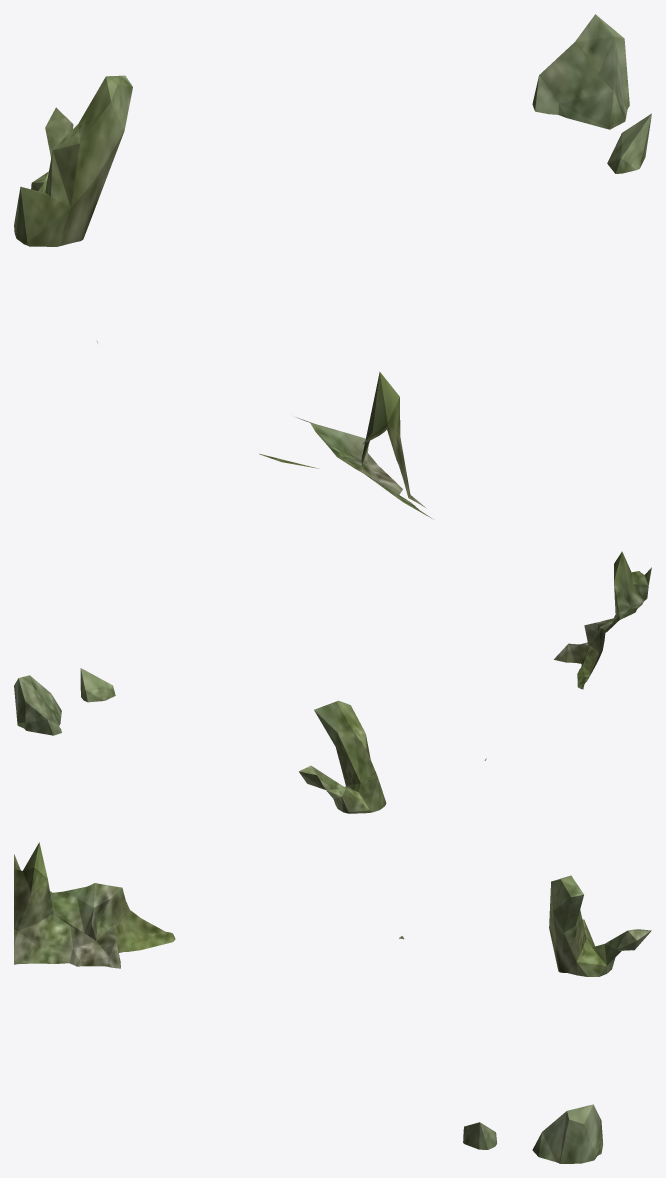
3 views of the same model, one above another, from view 1: azimuth 30°, elevation 25°; view 2: azimuth 150°, elevation 25°; view 3: azimuth 270°, elevation 25° (orthographic). The views are drawn at different scales.
Size of the model in its own units: 4.38 by 0.9701 by 5.21.
Materials: 1 (1 with a texture image).
